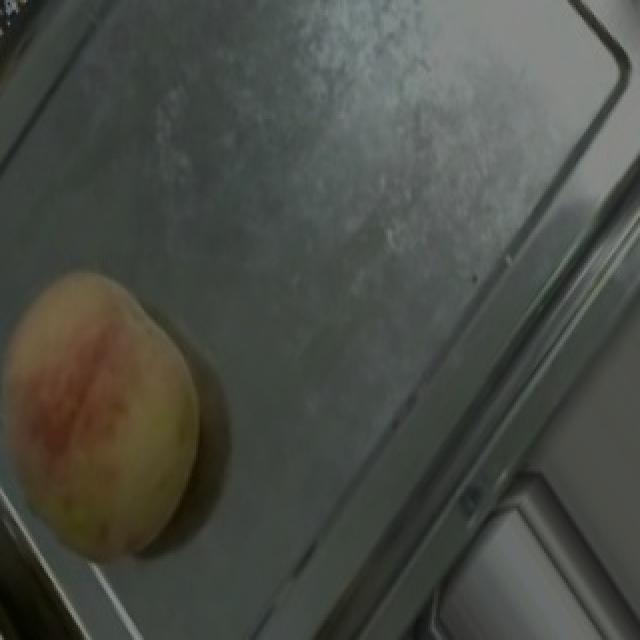Fruit: (0, 228, 250, 596)
